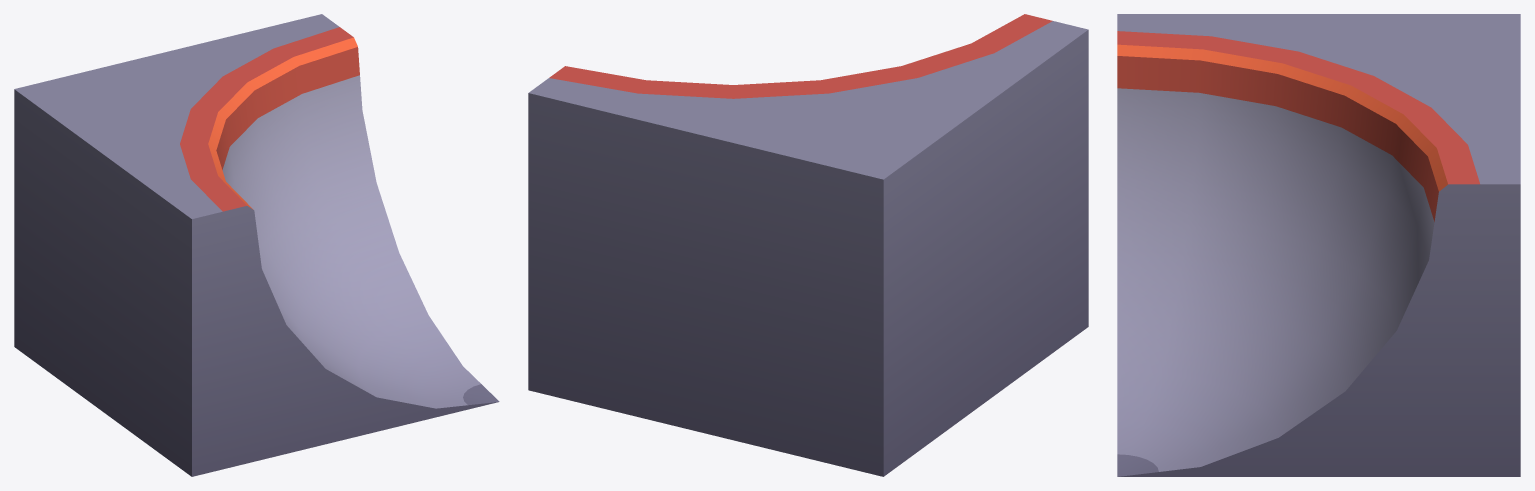
File: bowl-corner-inner.fbx
3 renders of one model, left to right at view 1: azimuth 30°, elevation 25°; view 2: azimuth 150°, elevation 25°; view 3: azimuth 270°, elevation 25°, orthographic. The views are drawn at different scales.
Parts seen in each view (by area): view 1: bowl-corner-inner; view 2: bowl-corner-inner; view 3: bowl-corner-inner.
Boxes of the visible parts, x1=… form: bowl-corner-inner: x1=14, y1=14, x2=499, y2=476; bowl-corner-inner: x1=528, y1=14, x2=1088, y2=476; bowl-corner-inner: x1=1117, y1=14, x2=1520, y2=476.
Bounding box in the file's own units: 100 × 80 × 100.
Materials: 1 (1 with a texture image).
